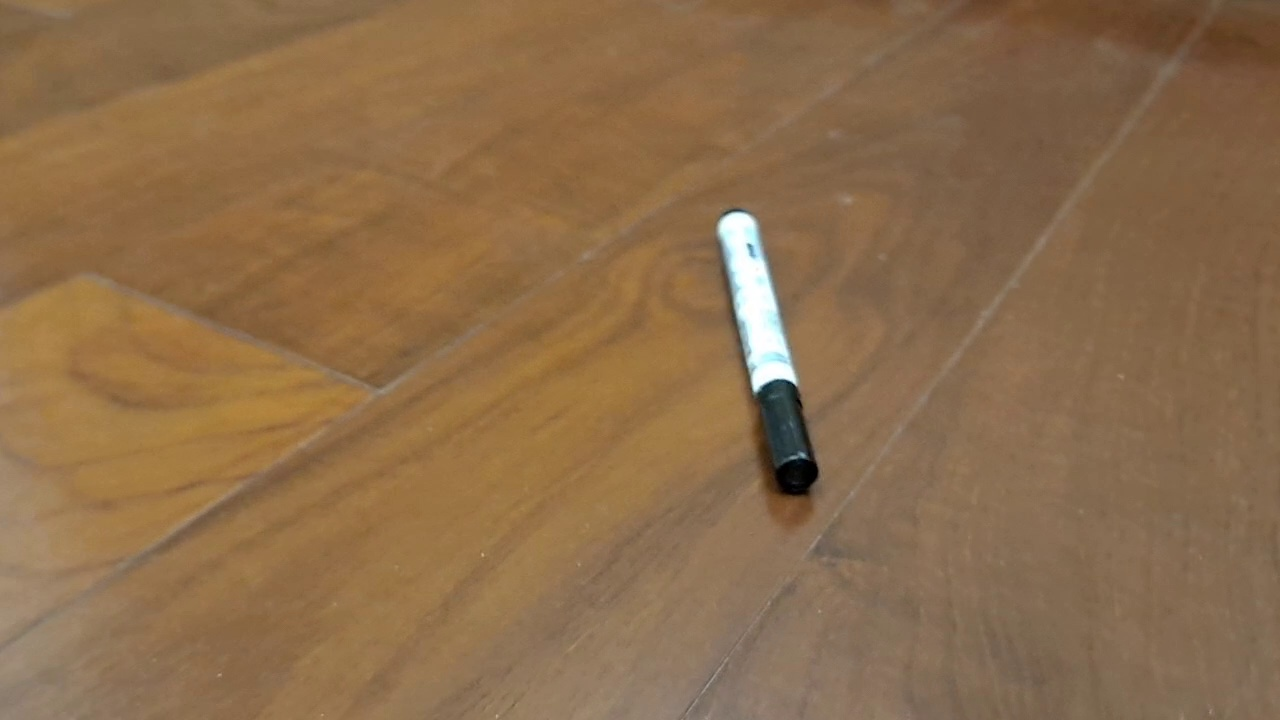pen: (714, 207, 820, 495)
